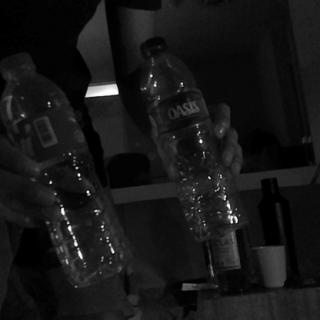plastic_bottles: (3, 50, 134, 282), (134, 35, 245, 235)
